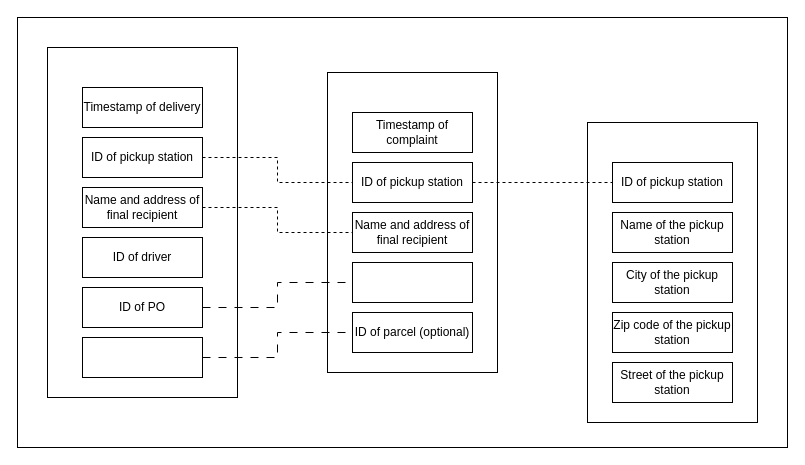
Some shapes in this 805 by 465 pixel diagram are drawn without their labels. Here are the shapes that lost their labels. From the top down, the box of each, then its label:
(46, 46, 238, 398): Delivery Events
(326, 72, 498, 372): Complaints
(352, 262, 472, 302): ID of PO (optional)
(586, 122, 758, 422): List of Pickup Locations
(82, 336, 202, 378): ID of parcel
